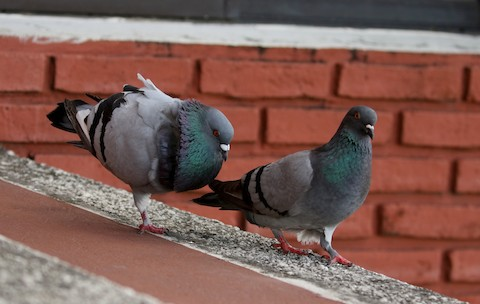pigeon: (44, 71, 239, 238), (192, 104, 383, 266)
